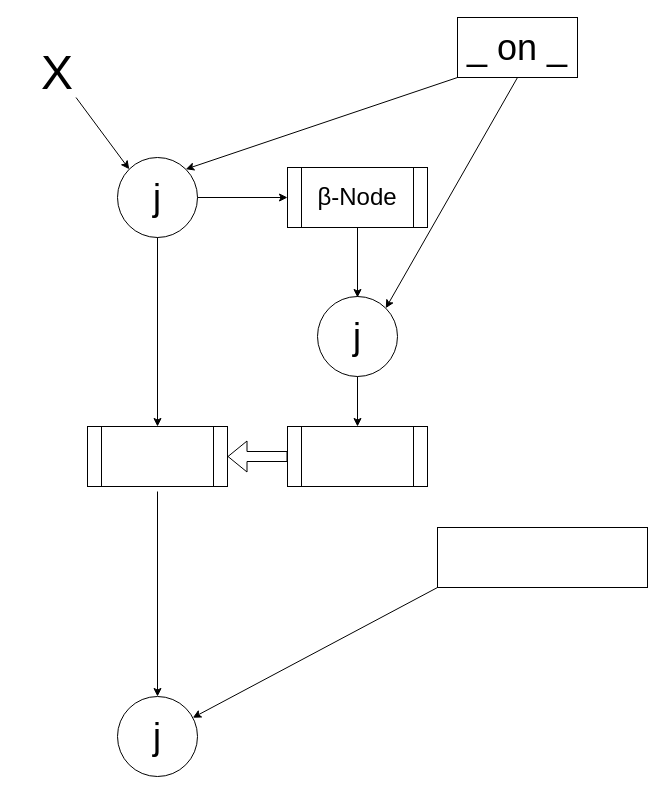
Some shapes in this 665 by 794 pixel diagram are drawn without their labels. The centre of each missing label's shape, as x and y in pixels:
"#dummy WME" goes at pixel 542 557.
"NCC Node" goes at pixel 157 456.
"NCCP Node" goes at pixel 357 456.
